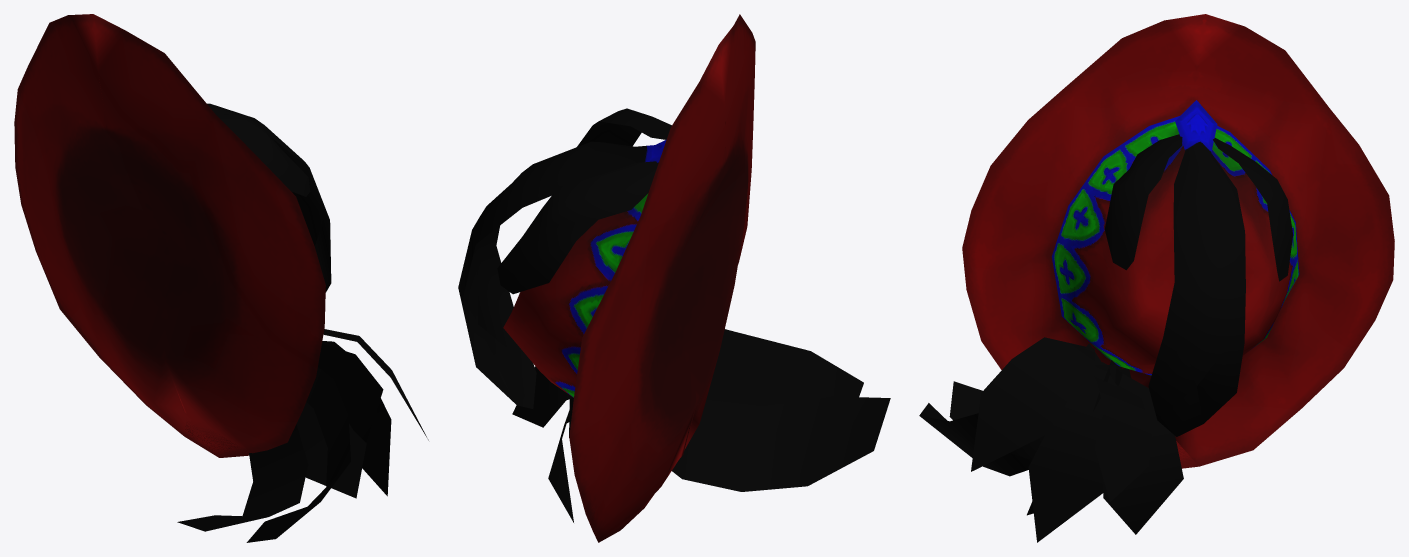
The picture shows the model from 3 angles, left to right: view 1: azimuth 30°, elevation 25°; view 2: azimuth 150°, elevation 25°; view 3: azimuth 270°, elevation 25°; orthographic projection. The views are drawn at different scales.
Parts seen in each view (by area): view 1: L1119; view 2: L1119; view 3: L1119.
Part boxes in pixels (left/top/right/bottom): L1119: left=14, top=14, right=428, bottom=542; L1119: left=458, top=14, right=890, bottom=542; L1119: left=919, top=14, right=1394, bottom=542.
Bounding box in the file's own units: 0.5686 × 1.02 × 0.9874.
